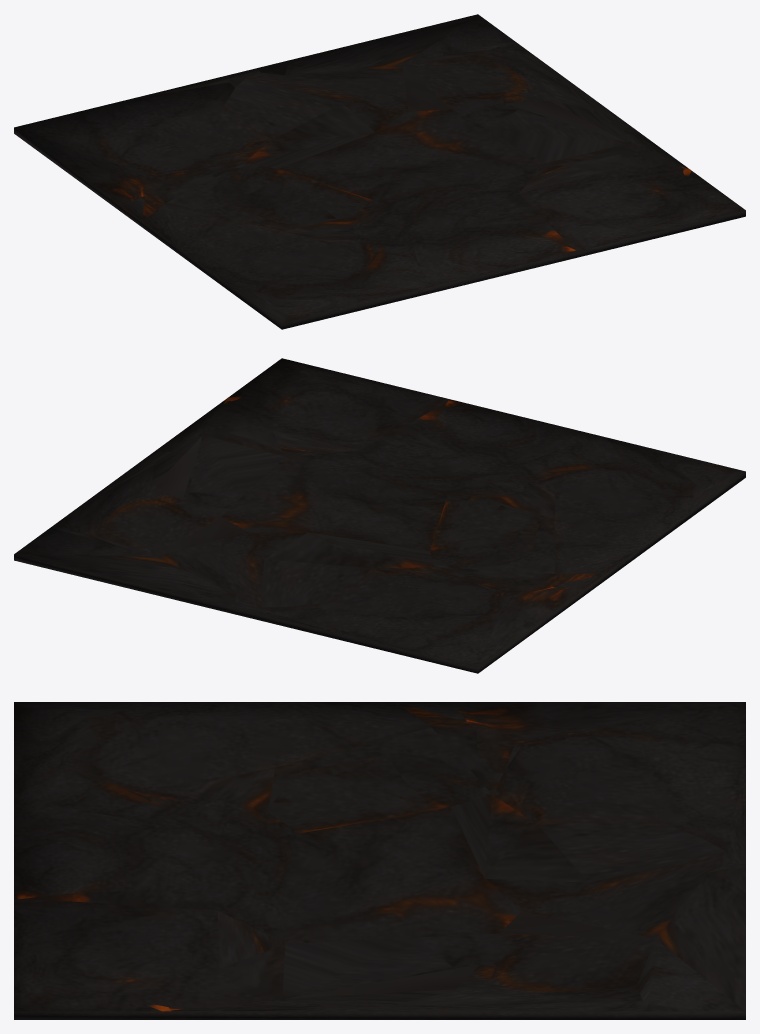
File: volcanic-ground-lod2.glb
The picture shows the model from 3 angles, top to bottom: view 1: azimuth 30°, elevation 25°; view 2: azimuth 150°, elevation 25°; view 3: azimuth 270°, elevation 25°; orthographic projection. The views are drawn at different scales.
Visible parts, largest first — view 1: volcanic-ground.002; view 2: volcanic-ground.002; view 3: volcanic-ground.002.
Part boxes in pixels (x1,y1,x2,y2): volcanic-ground.002: [14, 14, 745, 329]; volcanic-ground.002: [14, 358, 745, 673]; volcanic-ground.002: [14, 702, 745, 1019].
Bounding box in the file's own units: 32 × 0.433 × 32.
Materials: 1 (1 with a texture image).
